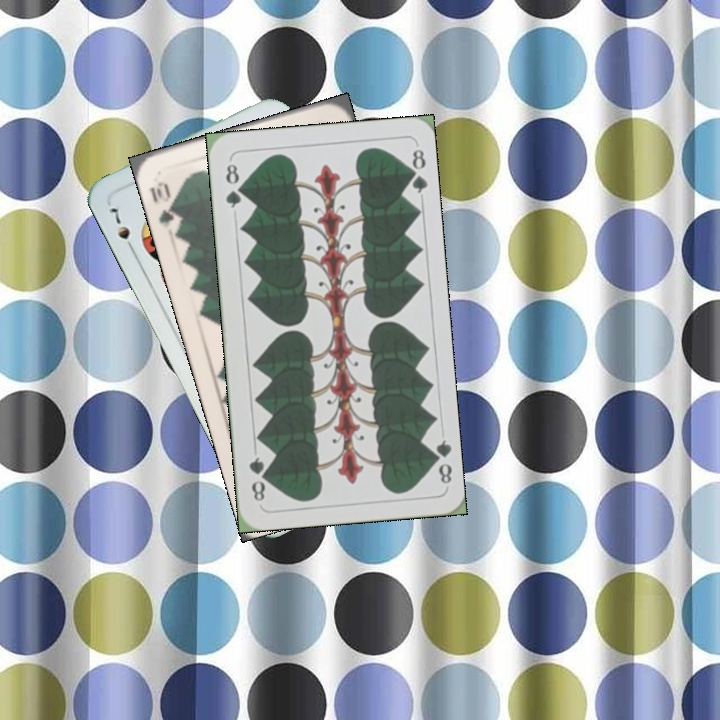G10: (146, 177, 184, 231)
G8: (426, 436, 455, 486), (221, 159, 245, 211)
S7: (104, 199, 138, 256)
